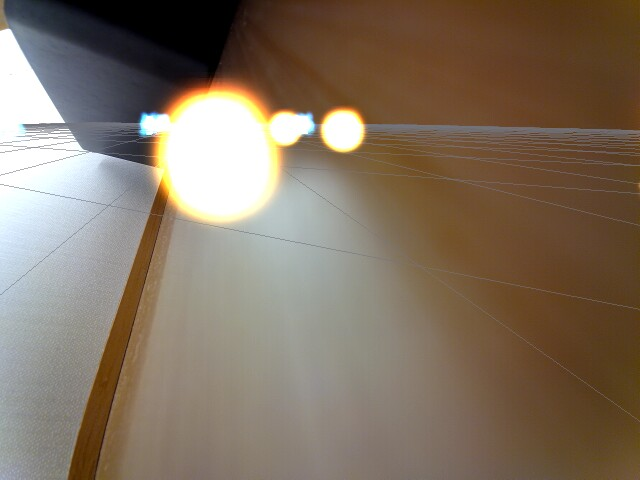firebig: (160, 84, 269, 225)
